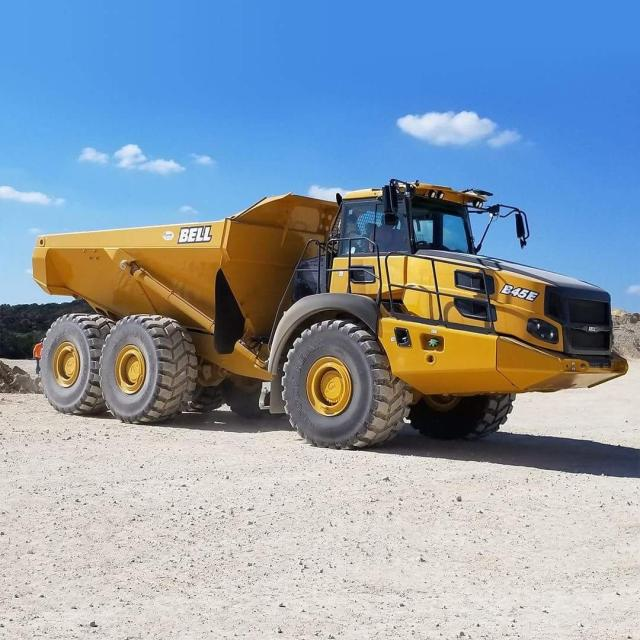dump_truck: (34, 170, 628, 470)
